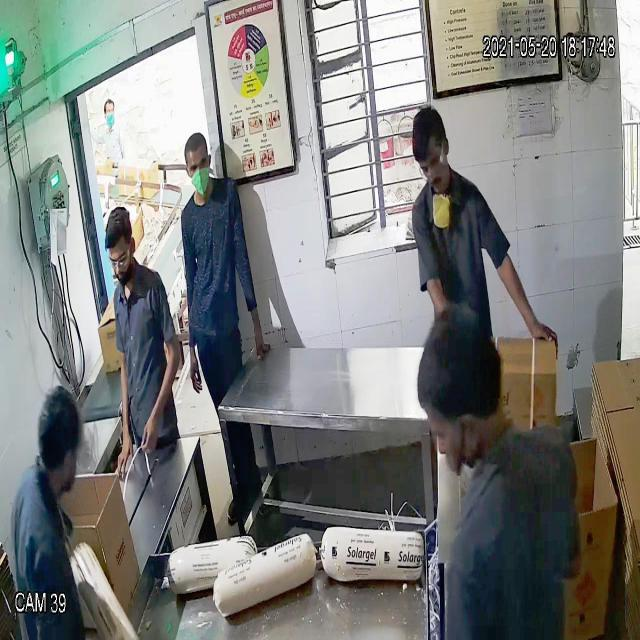glasses: (414, 148, 450, 177), (104, 244, 134, 274)
no-glass: (181, 151, 216, 181)
